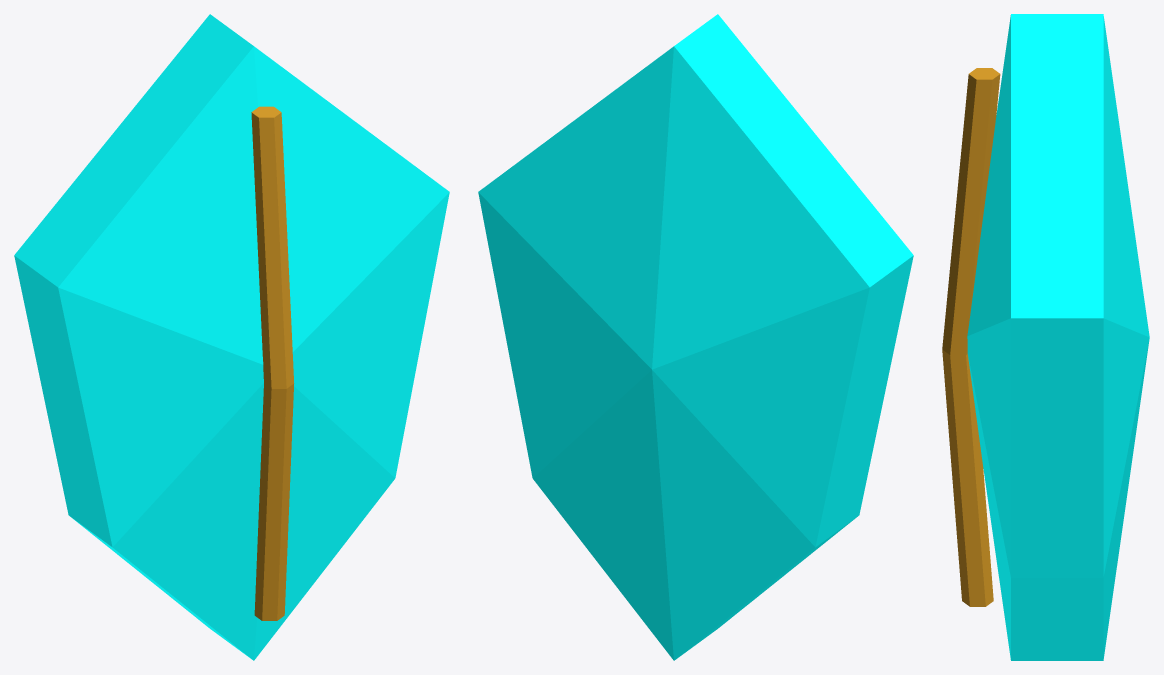
The model's file is scale-plate.glb.
3 views of the same model, side by side, from view 1: azimuth 30°, elevation 25°; view 2: azimuth 150°, elevation 25°; view 3: azimuth 270°, elevation 25° (orthographic). The views are drawn at different scales.
Visible parts, largest first — view 1: scale-plate; view 2: scale-plate; view 3: scale-plate.
Boxes of the visible parts, x1=… form: scale-plate: x1=14, y1=14, x2=449, y2=660; scale-plate: x1=478, y1=14, x2=913, y2=660; scale-plate: x1=942, y1=14, x2=1149, y2=660.
Size of the model in its own units: 0.36 by 0.54 by 0.157.
